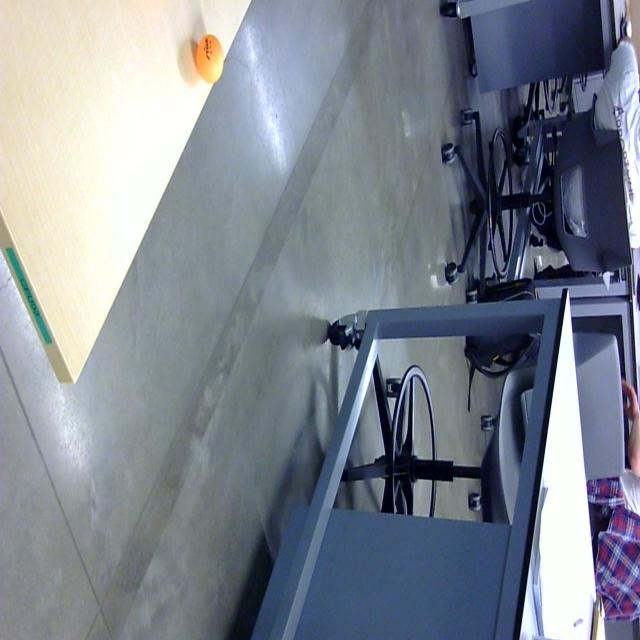ball: (192, 34, 225, 85)
